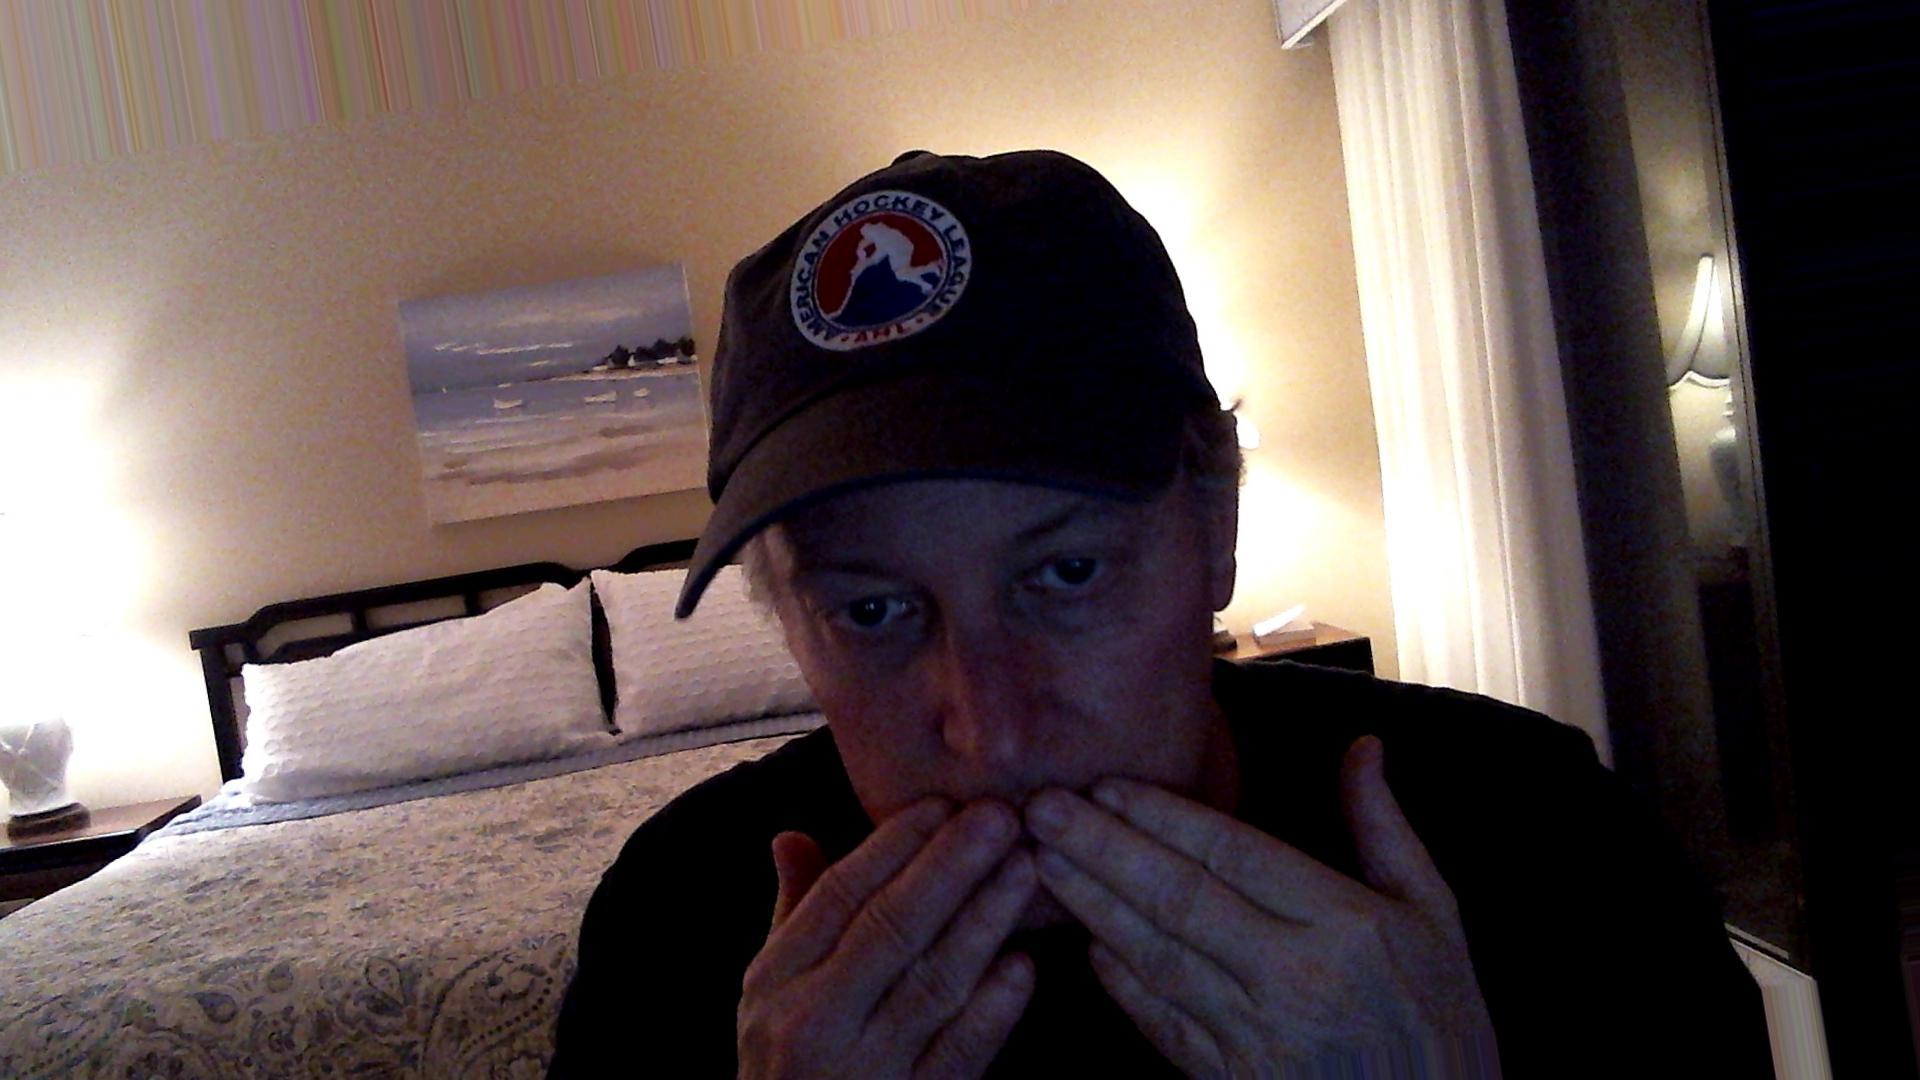Thank You: (699, 708, 1516, 1080)
